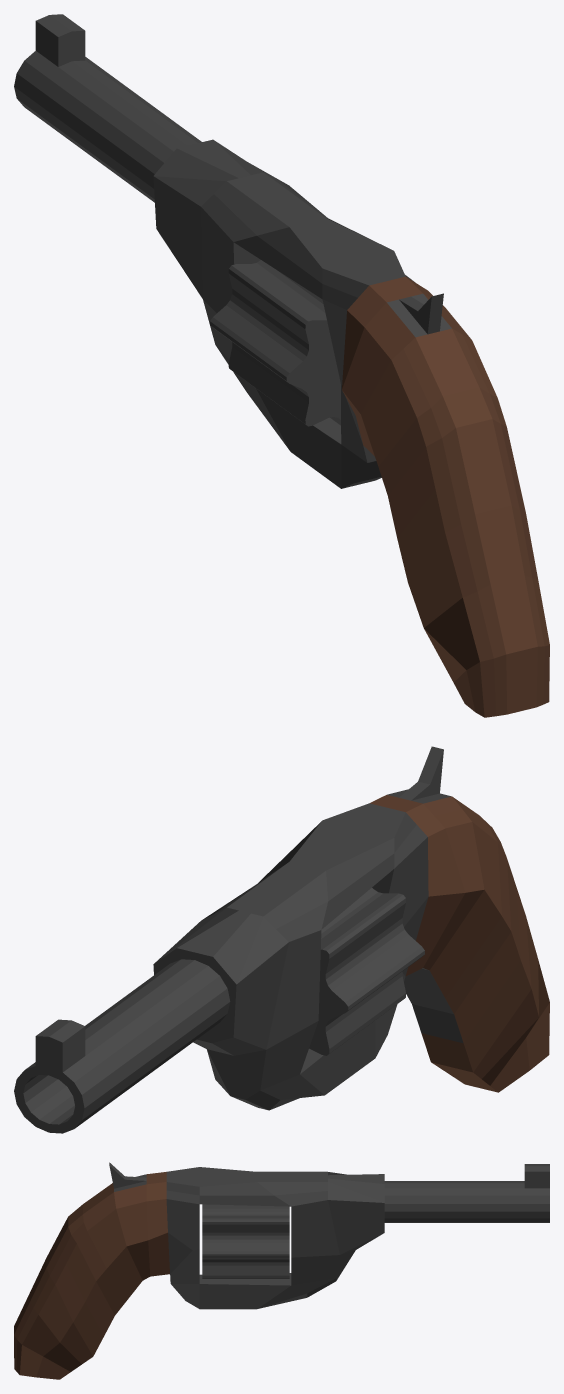
Rendered from Revolver.glb.
3 views of the same model, one above another, from view 1: azimuth 30°, elevation 25°; view 2: azimuth 150°, elevation 25°; view 3: azimuth 270°, elevation 25° (orthographic). The views are drawn at different scales.
Parts seen in each view (by area): view 1: Cylinder; view 2: Cylinder; view 3: Cylinder.
Part boxes in pixels (<box>): Cylinder: <box>14,14,549,717</box>; Cylinder: <box>14,746,549,1133</box>; Cylinder: <box>14,1162,549,1379</box>.
Bounding box in the file's own units: 0.0358 × 0.0922 × 0.2121.
